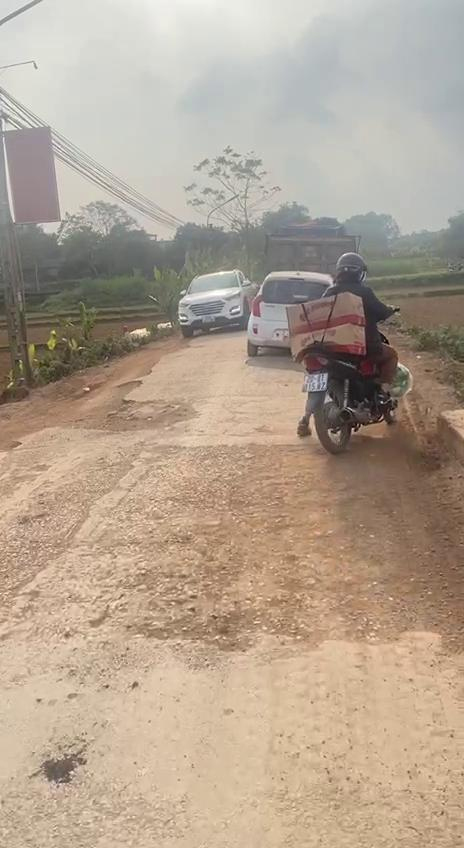pothole: (127, 599, 314, 659), (51, 377, 202, 434)
